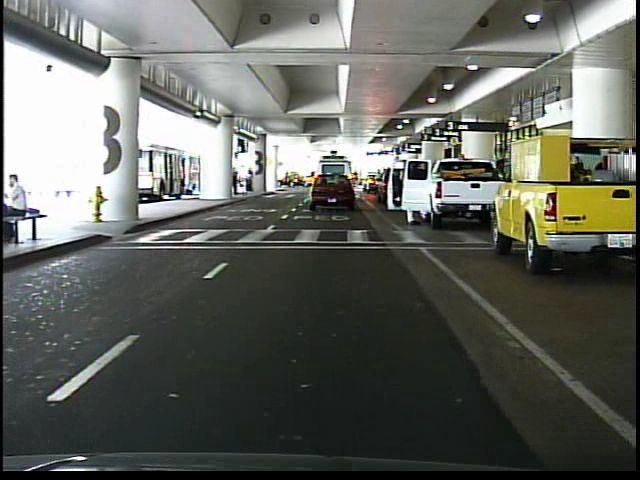person: (230, 163, 243, 198), (245, 166, 257, 194)
